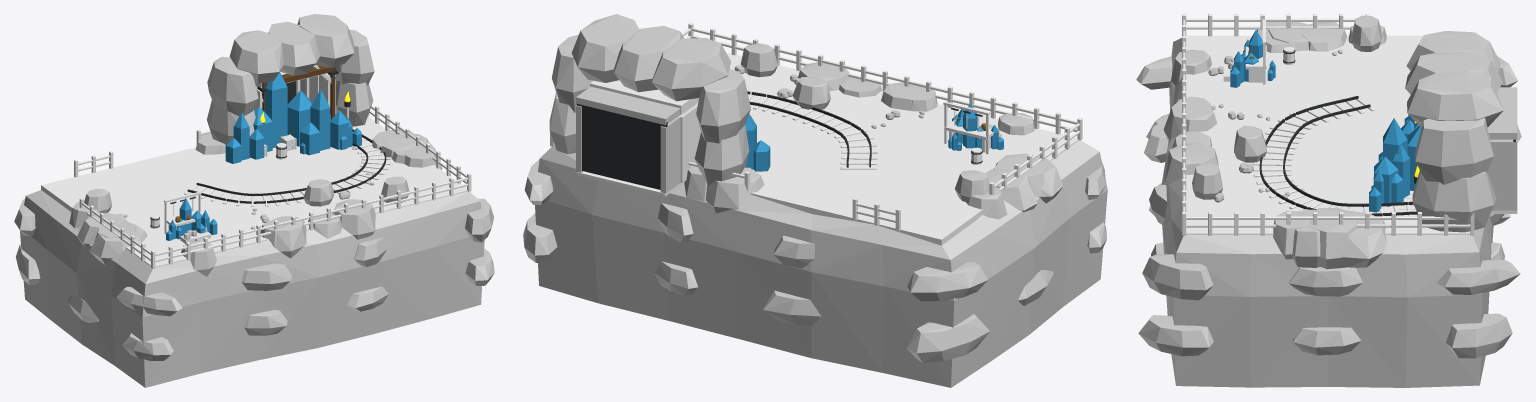
The model's file is core_cavern.glb.
3 views of the same model, side by side, from view 1: azimuth 30°, elevation 25°; view 2: azimuth 150°, elevation 25°; view 3: azimuth 270°, elevation 25° (orthographic). The views are drawn at different scales.
Parts seen in each view (by area): view 1: core_cavern_Mine_Rock, core_cavern_Mine_Earth, core_cavern_G04_crystal, core_cavern_Mine_Wood, core_cavern_Mine_WoodLight, core_cavern_Mine_Metal, core_cavern_G04_wood.002; view 2: core_cavern_Mine_Rock, core_cavern_Mine_Earth, core_cavern_Mine_Wood, core_cavern_Mine_Metal, core_cavern_Mine_WoodLight, core_cavern_G04_crystal; view 3: core_cavern_Mine_Rock, core_cavern_Mine_Earth, core_cavern_Mine_Wood, core_cavern_G04_crystal, core_cavern_Mine_WoodLight, core_cavern_Mine_Metal.
Boxes of the visible parts, left/top/right/bottom form: core_cavern_Mine_Rock: left=14, top=14, right=494, bottom=387; core_cavern_Mine_Earth: left=41, top=116, right=467, bottom=267; core_cavern_G04_crystal: left=166, top=72, right=361, bottom=240; core_cavern_Mine_Wood: left=74, top=65, right=471, bottom=268; core_cavern_Mine_WoodLight: left=78, top=105, right=467, bottom=262; core_cavern_Mine_Metal: left=170, top=70, right=386, bottom=203; core_cavern_G04_wood.002: left=261, top=66, right=336, bottom=119; core_cavern_Mine_Rock: left=523, top=14, right=1107, bottom=387; core_cavern_Mine_Earth: left=554, top=52, right=1078, bottom=245; core_cavern_Mine_Wood: left=550, top=23, right=1082, bottom=231; core_cavern_Mine_Metal: left=576, top=91, right=982, bottom=189; core_cavern_Mine_WoodLight: left=682, top=28, right=1079, bottom=222; core_cavern_G04_crystal: left=745, top=103, right=1003, bottom=171; core_cavern_Mine_Rock: left=1136, top=15, right=1521, bottom=387; core_cavern_Mine_Earth: left=1186, top=35, right=1517, bottom=234; core_cavern_Mine_Wood: left=1182, top=14, right=1474, bottom=235; core_cavern_G04_crystal: left=1230, top=30, right=1421, bottom=212; core_cavern_Mine_WoodLight: left=1182, top=18, right=1470, bottom=227; core_cavern_Mine_Metal: left=1259, top=96, right=1515, bottom=216.
Bounding box in the file's own units: 30.54 × 16.71 × 21.41.
